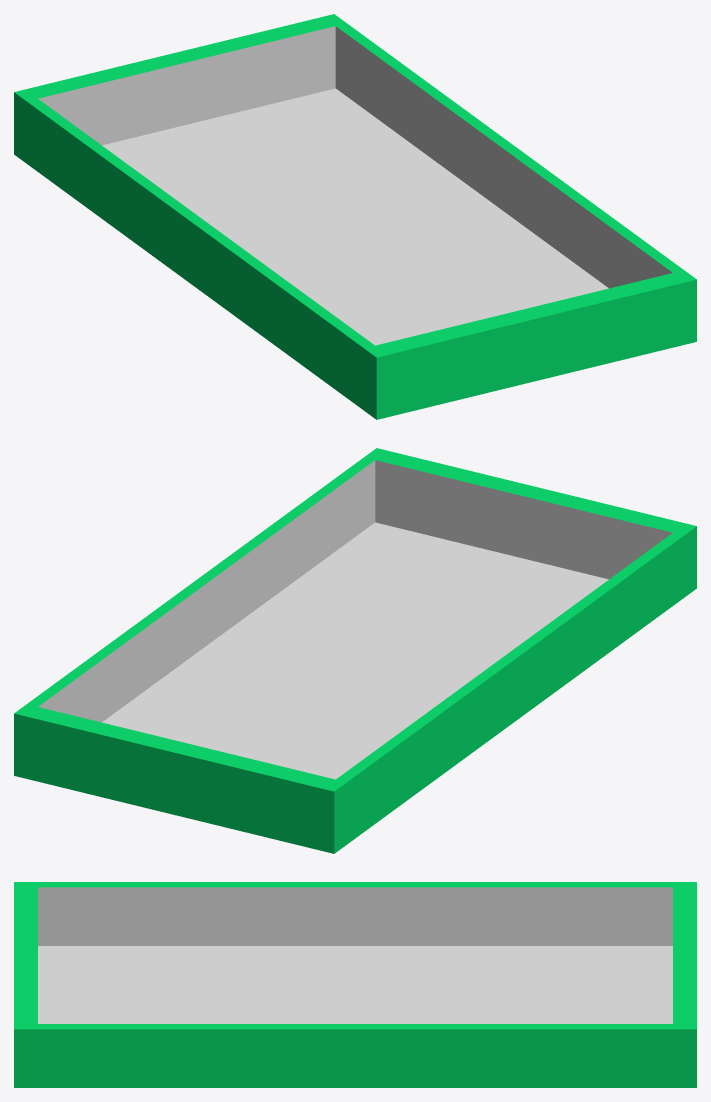
File: deep_pool.dae
3 renders of one model, top to bottom at view 1: azimuth 30°, elevation 25°; view 2: azimuth 150°, elevation 25°; view 3: azimuth 270°, elevation 25°, orthographic. The views are drawn at different scales.
Parts seen in each view (by area): view 1: Pool; view 2: Pool; view 3: Pool.
Part boxes in pixels (x1,y1,x2,y2): Pool: [14, 14, 696, 419]; Pool: [14, 448, 696, 853]; Pool: [14, 882, 696, 1087].
Bounding box in the file's own units: 27.96 × 54.85 × 5.2.
